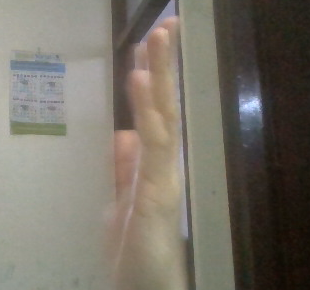move: (88, 12, 240, 290)
